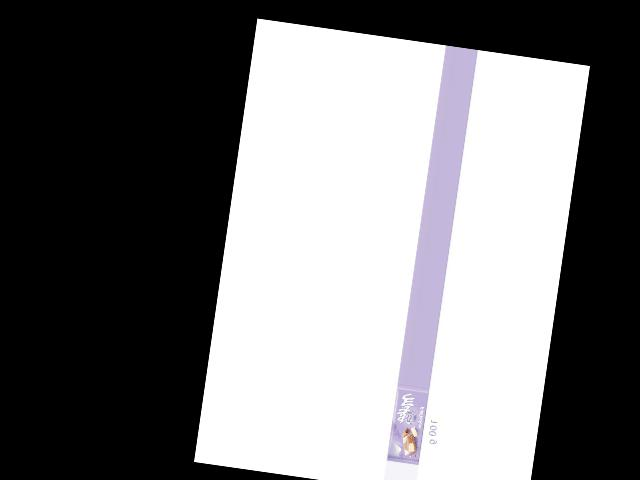chocolate: (385, 384, 434, 466)
